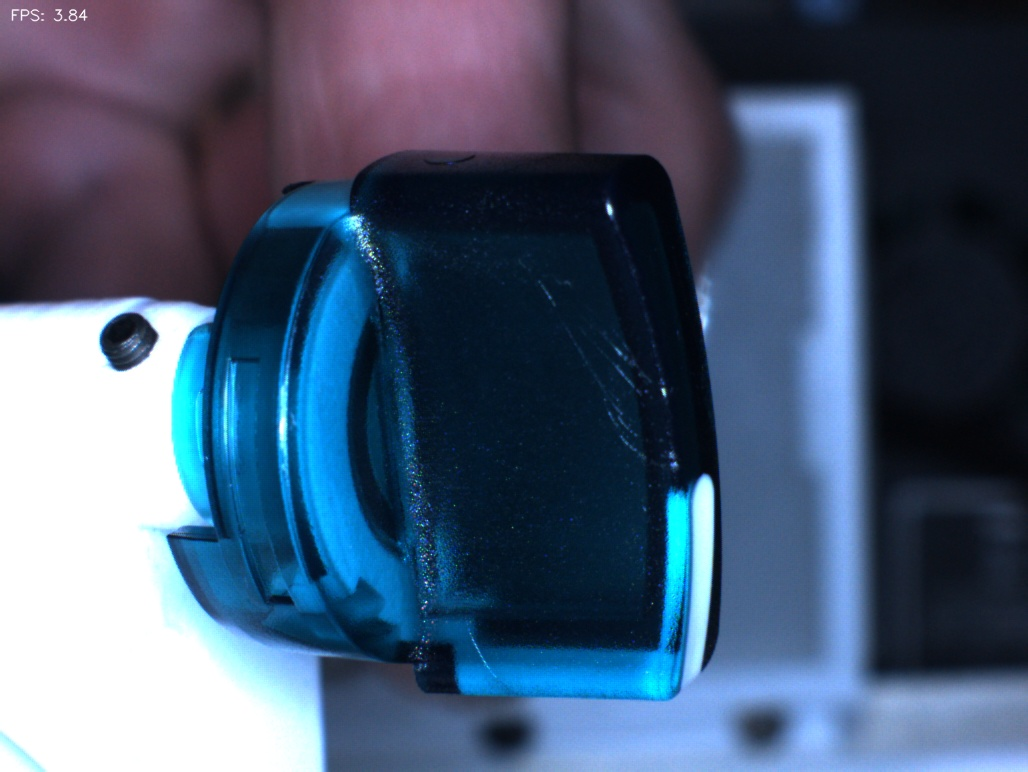Givrage: (530, 272, 682, 459)
